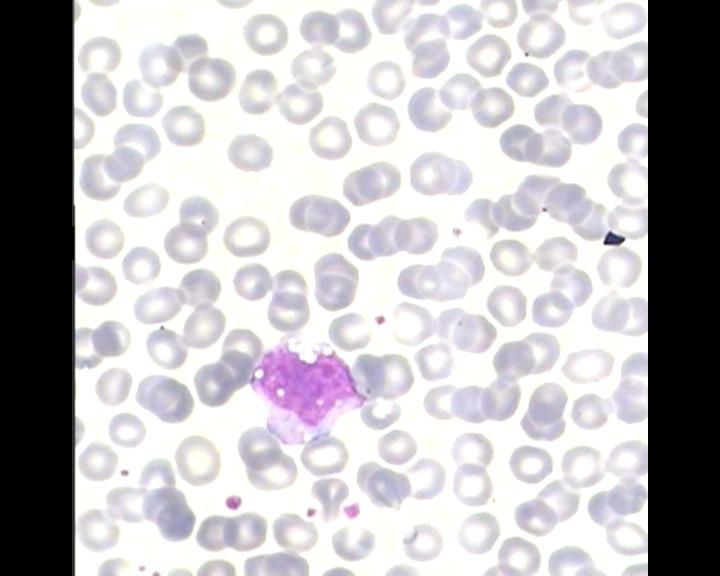mono: (244, 327, 363, 446)
